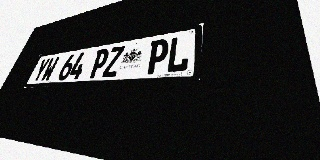4: (67, 51, 89, 80)
6: (57, 53, 78, 81)
L: (165, 34, 191, 73)
P: (145, 38, 170, 74), (88, 48, 111, 78)
W: (40, 56, 60, 82)
Y: (31, 58, 51, 82)
Z: (102, 45, 125, 77)
